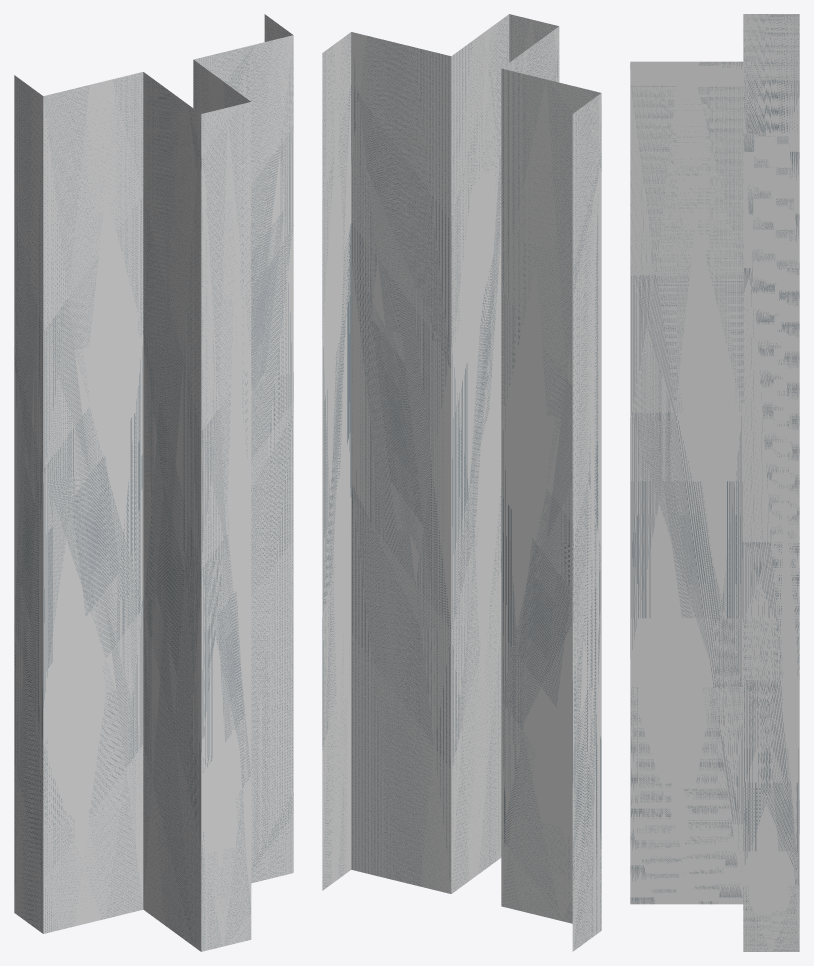
The model's file is Corner_os_double_050x050x025x4.dae.
3 renders of one model, left to right at view 1: azimuth 30°, elevation 25°; view 2: azimuth 150°, elevation 25°; view 3: azimuth 270°, elevation 25°, orthographic. The views are drawn at different scales.
Parts seen in each view (by area): view 1: group_0; view 2: group_0; view 3: group_0.
Boxes of the visible parts, bbox=[...] form: group_0: bbox=[14, 14, 293, 951]; group_0: bbox=[322, 14, 601, 951]; group_0: bbox=[630, 14, 799, 951].
Bounding box in the file's own units: 49.21 × 29.53 × 157.
